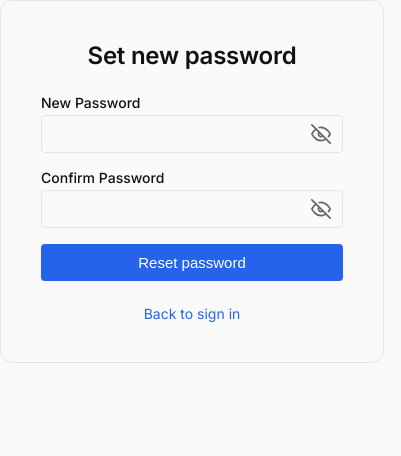
it: ResetPasswordForm › shows error for invalid/expired token
Type "password123" into the password field labelled "New Password" at coordinates (192, 134), box [41,115,343,153]
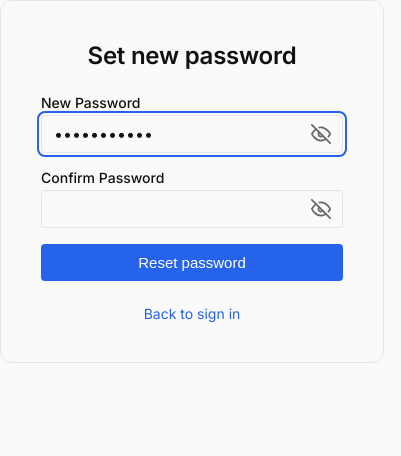
Type "password123" into the password field labelled "Confirm Password" at coordinates (192, 209), box [41,190,343,228]
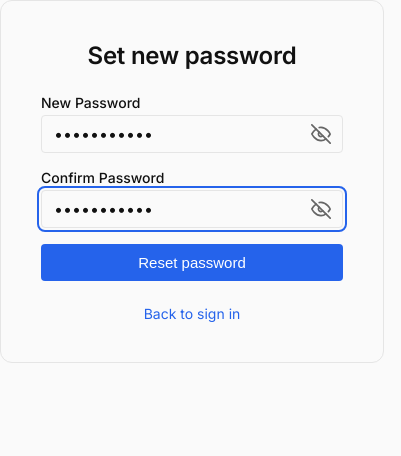
Click the button "Reset password" at coordinates (192, 262), box [41,244,343,281]
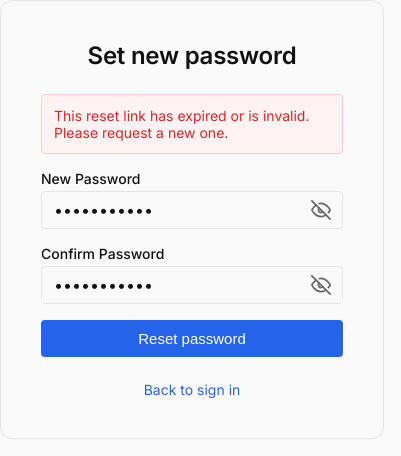
expect the text "This reset link has expired or is invalid" is shown: met, box [54,107,309,141]
